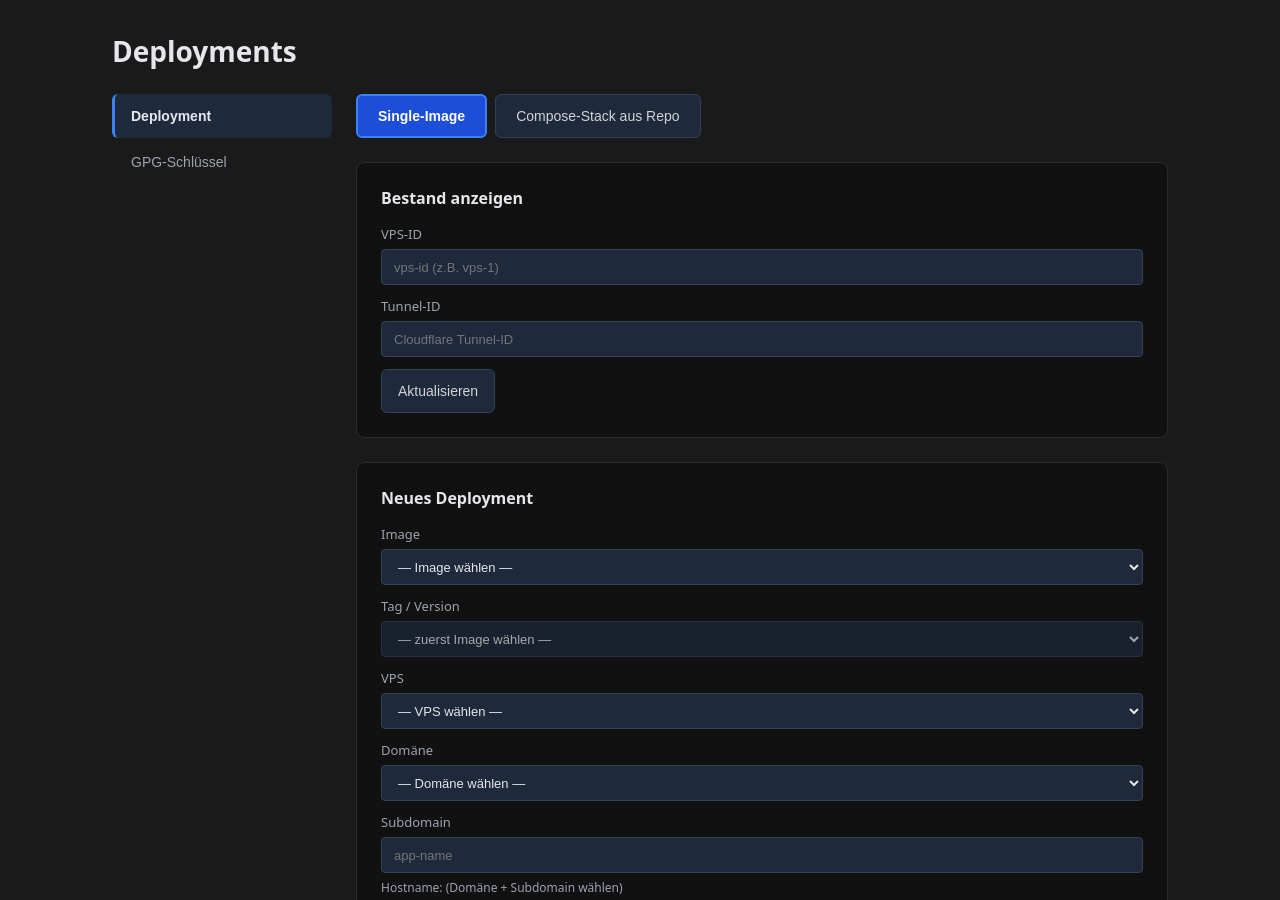
it: DeploymentsView — GPG-Bitwarden-Item-Default (deploy-bitwarden-gpg-injection.md AC16) › AC16: ein noch unberührter Default folgt weiterhin dem Slug-Wechsel
The width and height of the screenshot is (1280, 900).
Select "brew-assistent" in the dropdown with id "deploy-image-select": (762, 567) [381,549,1143,585]
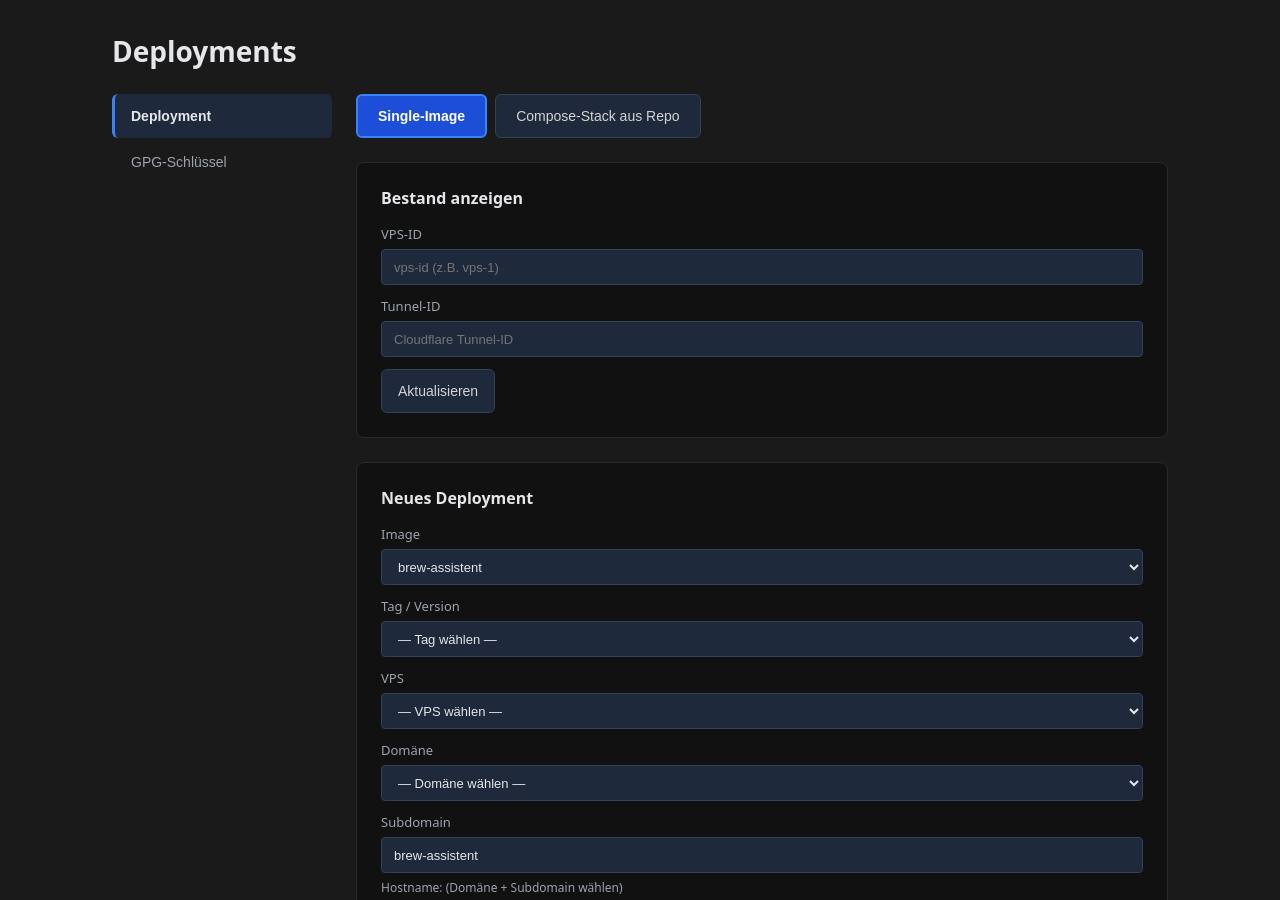
Select "zweite-app" in the dropdown with id "deploy-image-select": (762, 567) [381,549,1143,585]
(page scrolled)
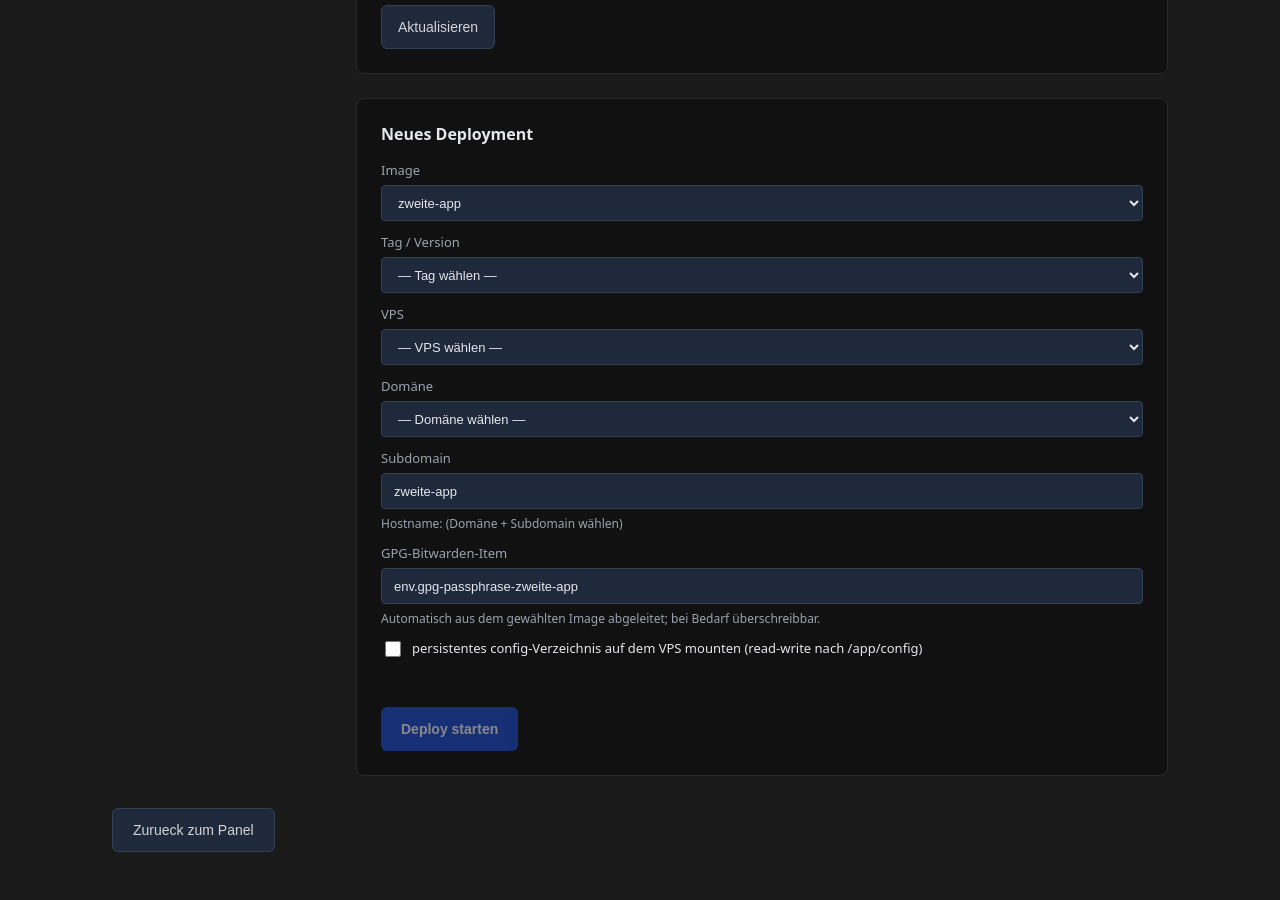
Expected: the field with id "deploy-gpg-bw-item" holds "env.gpg-passphrase-zweite-app", [381,568,1143,604]
